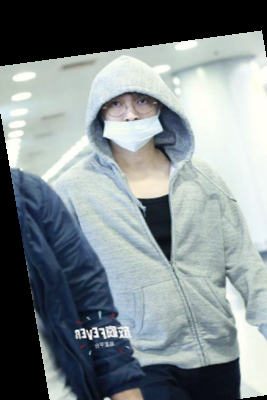mask_weared_incorrect: (86, 59, 180, 159)
